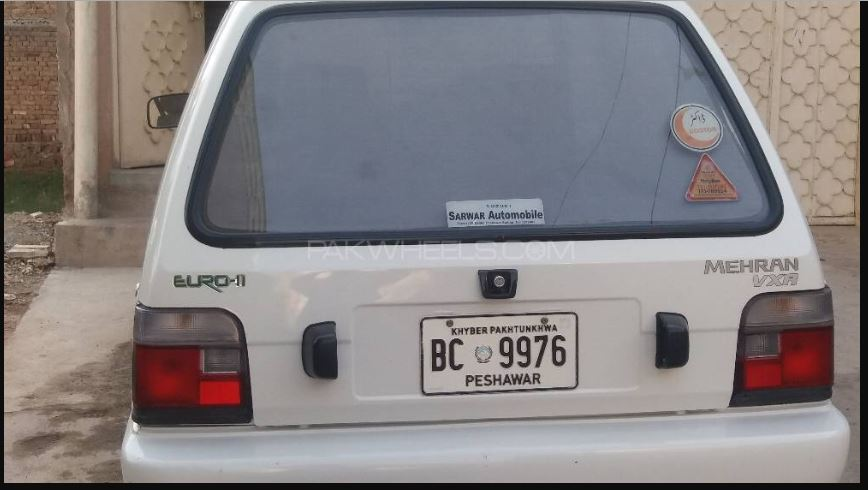Number Plate (Car): (419, 316, 579, 392)
